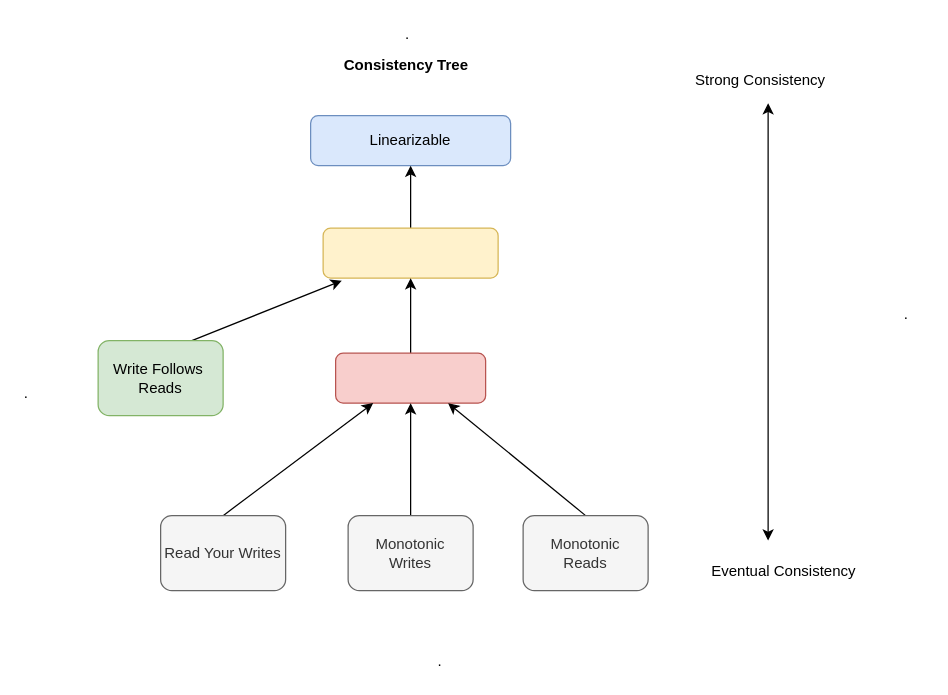
Image size: 948x695. Some labels were removed from this diagram. Here are the shapes that lost their labels. From the top down, the centre of each, then its label:
(x=410, y=252): Causal
(x=410, y=377): PRAM
